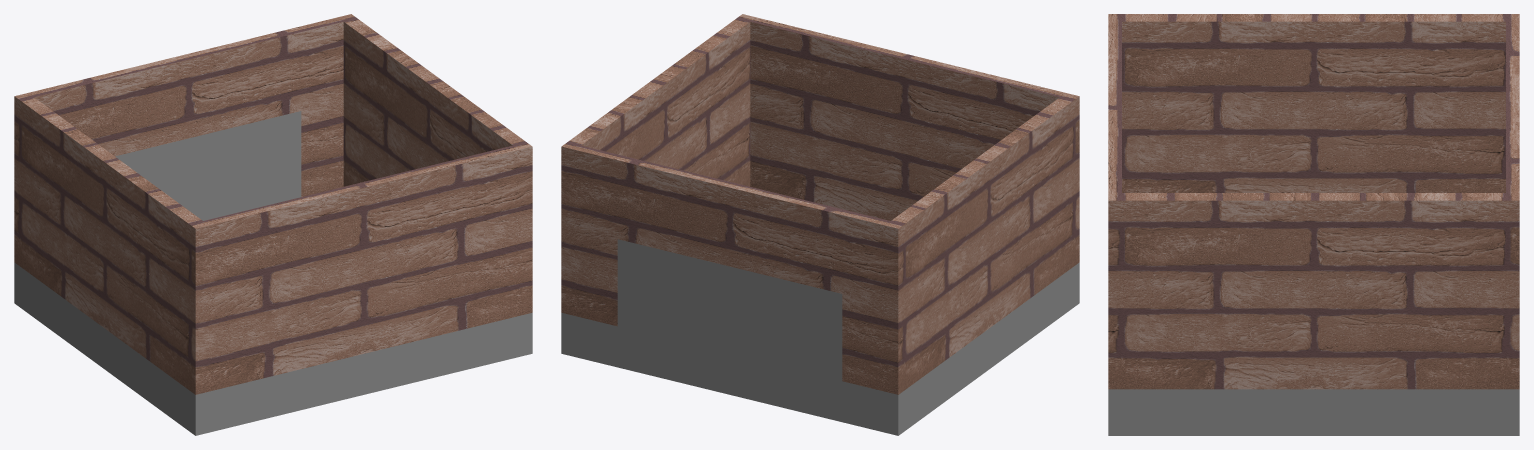
The model's file is room.FBX.
The picture shows the model from 3 angles, left to right: view 1: azimuth 30°, elevation 25°; view 2: azimuth 150°, elevation 25°; view 3: azimuth 270°, elevation 25°; orthographic projection. The views are drawn at different scales.
Parts seen in each view (by area): view 1: room; view 2: room; view 3: room.
Boxes of the visible parts, x1,y1,x2,y2 form: room: (14, 14, 532, 435); room: (561, 14, 1079, 435); room: (1108, 14, 1519, 435).
Size of the model in its own units: 573 by 337 by 533.
